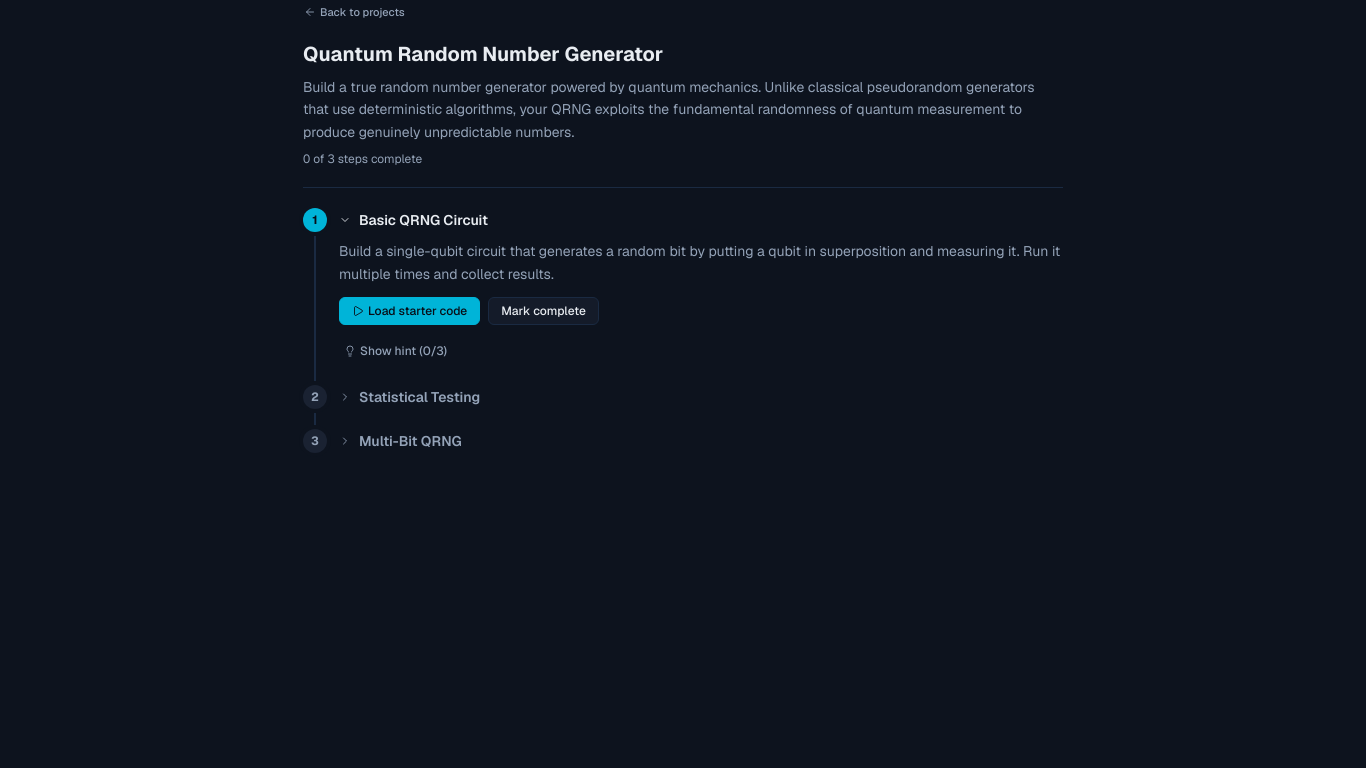
Scenario: CapstoneProjectView › asks before Load starter code replaces unsaved work and keeps it on cancel
What coordinates should you click on to do the following:
click the button "Load starter code"
I would click on:
 (410, 311)
Its box is x1=339 y1=297 x2=480 y2=325.
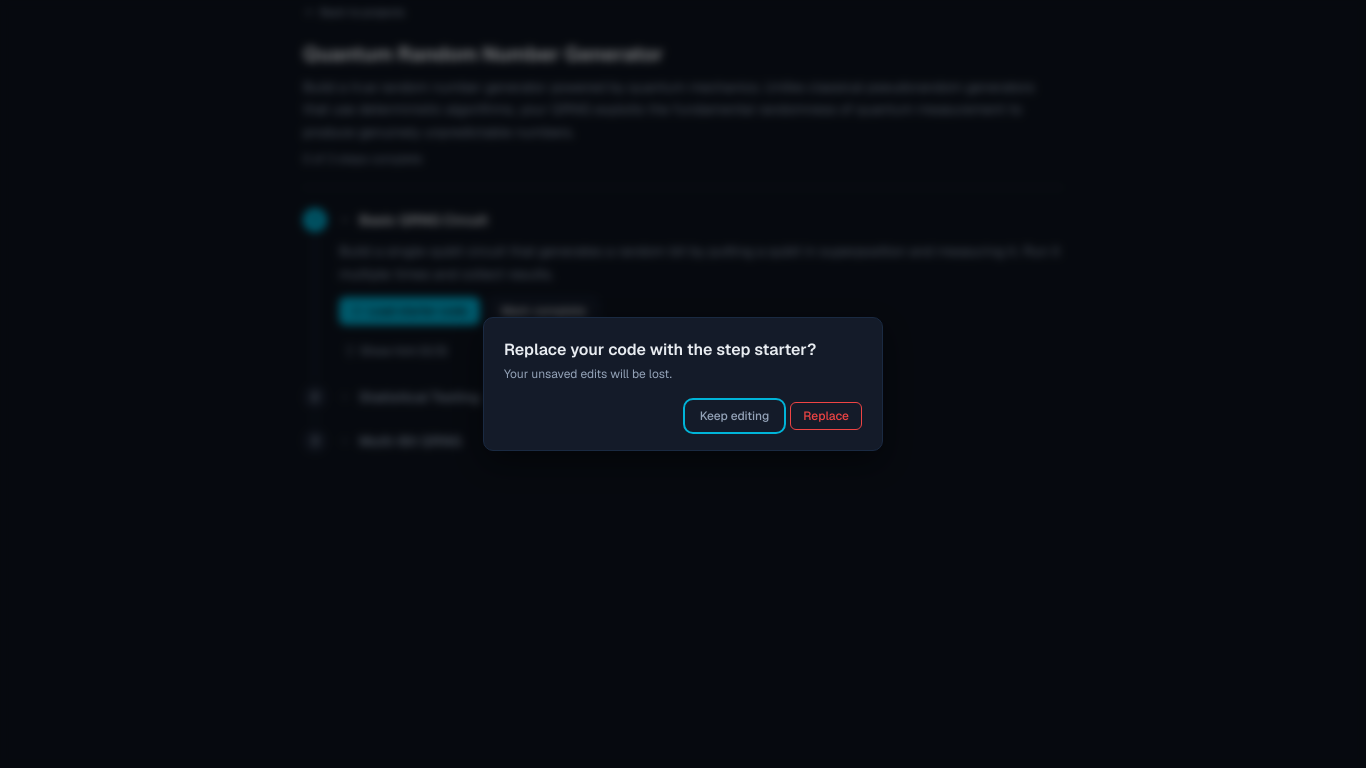
Result: the dialog is shown at x1=483 y1=317 x2=883 y2=451
What coordinates should you click on to do the following:
click the button "Keep editing"
I would click on:
 (734, 416)
Its box is x1=687 y1=402 x2=782 y2=430.
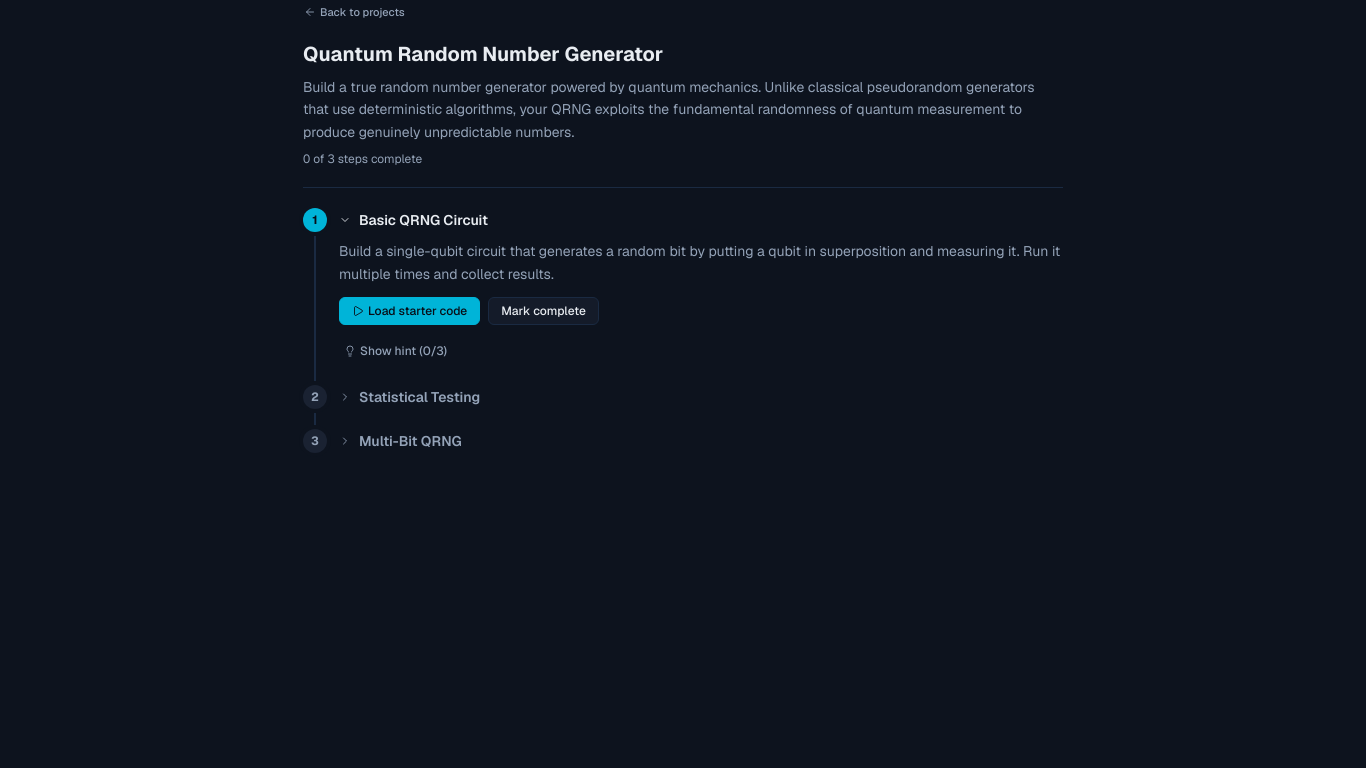
Result: the dialog is gone
